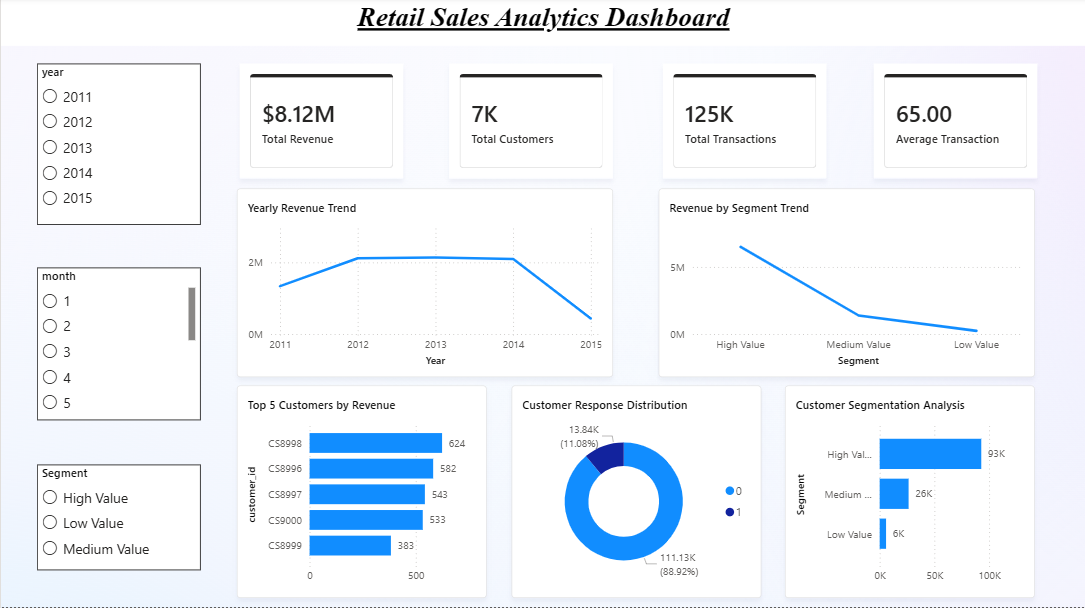

The page's visual inventory and layout, read from the dashboard file:
{"tool":"powerbi","page":{"name":"Page 1","canvas":[1280,720],"ordinal":0},"visuals":[{"type":"cardVisual","fields":{"Data":["New_DAX.Total Revenue"]},"box":[281.9,79.3,193.2,135.9],"z":0},{"type":"cardVisual","fields":{"Data":["New_DAX.Average Transaction"]},"box":[1030.3,79.3,193.2,135.9],"z":1},{"type":"cardVisual","fields":{"Data":["New_DAX.Total Transactions"]},"box":[781.4,79.3,193.2,135.9],"z":2},{"type":"cardVisual","fields":{"Data":["New_DAX.Total Customers"]},"box":[529.2,79.3,193.2,135.9],"z":3},{"type":"lineChart","title":"Yearly Revenue Trend","fields":{"Category":["cleaned_retail_data.month_year.Variation.Date Hierarchy.Year"],"Y":["Sum(cleaned_retail_data.tran_amount)"]},"box":[278.4,226,443.8,222.7],"z":4},{"type":"clusteredBarChart","title":"Top 5 Customers by Revenue","fields":{"Category":["cleaned_retail_data.customer_id"],"Y":["Sum(cleaned_retail_data.tran_amount)"]},"box":[278.4,458.5,294.8,250.6],"z":5},{"type":"donutChart","title":"Customer Response Distribution","fields":{"Category":["cleaned_retail_data.response"],"Y":["CountNonNull(cleaned_retail_data.customer_id)"]},"box":[602.7,458.5,294.8,250.6],"z":6},{"type":"barChart","title":"Customer Segmentation Analysis","fields":{"Y":["CountNonNull(cleaned_retail_data.customer_id)"],"Category":["cleaned_retail_data.Segment"]},"box":[925.3,458.5,294.8,250.6],"z":7},{"type":"listSlicer","fields":{"Values":["cleaned_retail_data.year"]},"box":[42.6,78.6,193.2,190],"z":8},{"type":"listSlicer","fields":{"Values":["cleaned_retail_data.Segment"]},"box":[42.6,551.9,193.2,124.5],"z":9},{"type":"listSlicer","fields":{"Values":["cleaned_retail_data.month"]},"box":[42.6,319.3,193.2,180.1],"z":10},{"type":"textbox","box":[0,0,1280.6,57.3],"z":11},{"type":"lineChart","title":"Revenue by Segment Trend","fields":{"Y":["Sum(cleaned_retail_data.tran_amount)"],"Category":["cleaned_retail_data.Segment"]},"box":[776.2,226,443.8,222.7],"z":12}]}

Visuals, with their boxes in screenshot pixels (x1, y1, x2, y2), scaled from the page's 1280x720 canvas onto the 1085x608 screenshot:
cardVisual - New_DAX.Total Revenue: 239,67,403,182
cardVisual - New_DAX.Average Transaction: 873,67,1037,182
cardVisual - New_DAX.Total Transactions: 662,67,826,182
cardVisual - New_DAX.Total Customers: 449,67,612,182
"Yearly Revenue Trend" lineChart: 236,191,612,379
"Top 5 Customers by Revenue" clusteredBarChart: 236,387,486,599
"Customer Response Distribution" donutChart: 511,387,761,599
"Customer Segmentation Analysis" barChart: 784,387,1034,599
listSlicer - cleaned_retail_data.year: 36,66,200,227
listSlicer - cleaned_retail_data.Segment: 36,466,200,571
listSlicer - cleaned_retail_data.month: 36,270,200,422
textbox: 0,0,1084,48
"Revenue by Segment Trend" lineChart: 658,191,1034,379
